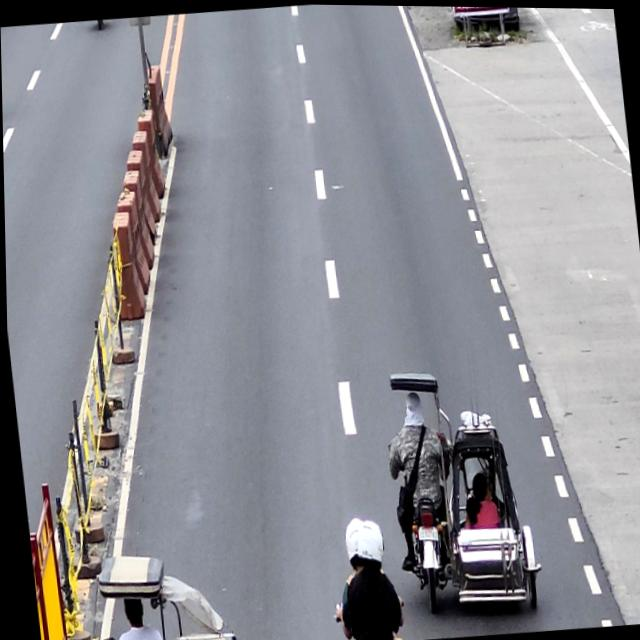License-Plate: (414, 523, 436, 543)
Tricycle: (380, 356, 540, 618)
